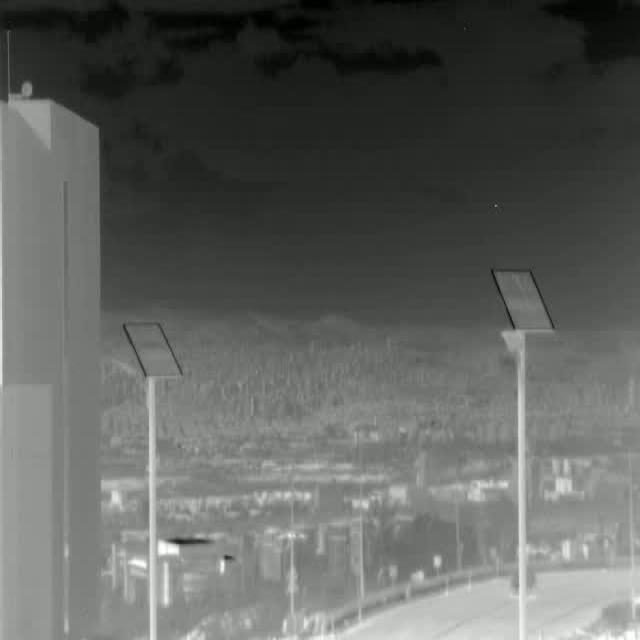Car: (508, 568, 536, 597)
